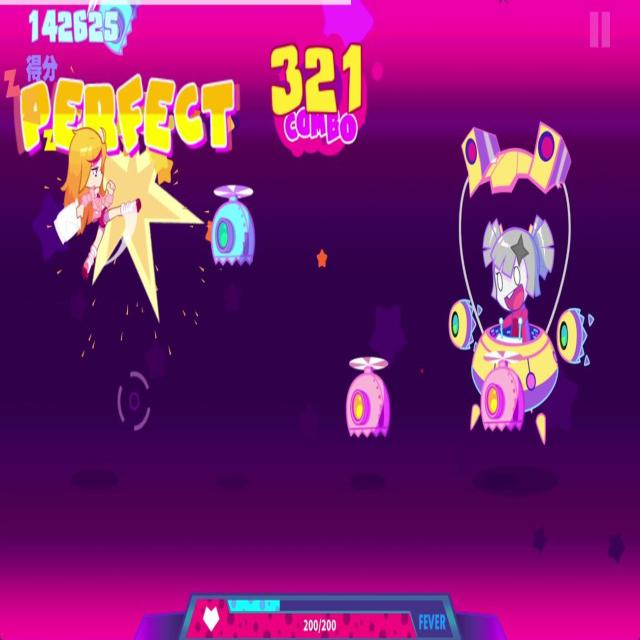jiqiqiu: (343, 353, 394, 440), (211, 180, 259, 271), (87, 0, 141, 54)
qiangboss: (451, 120, 593, 447)
